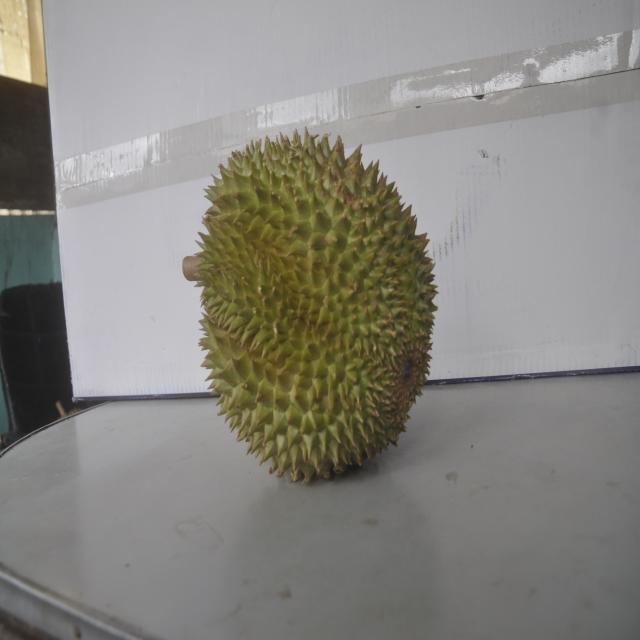mature: (186, 125, 428, 482)
